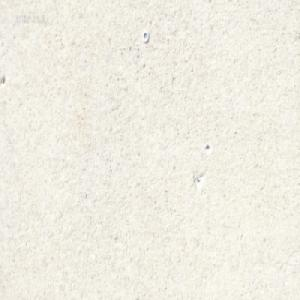Washer: (141, 31, 148, 43)
